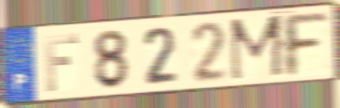2: (189, 20, 229, 85), (141, 26, 180, 86)
8: (92, 28, 131, 91)
F: (279, 12, 331, 80), (43, 33, 80, 94)
M: (228, 13, 287, 84)
